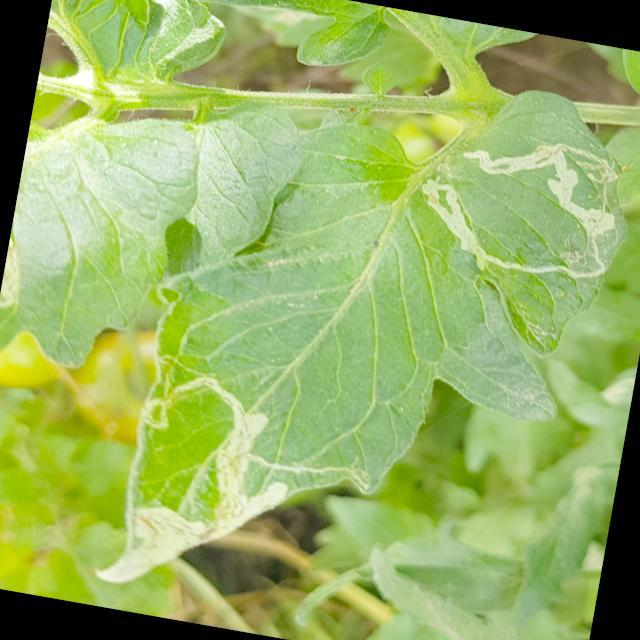Tomato target spot leaf: (90, 26, 640, 640)
